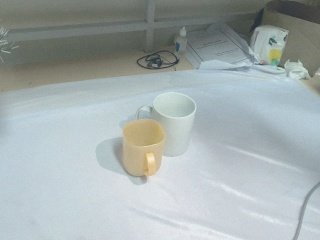bottle: (174, 27, 188, 56)
box: (252, 1, 320, 78)
cup: (140, 92, 198, 158), (120, 117, 167, 178)
